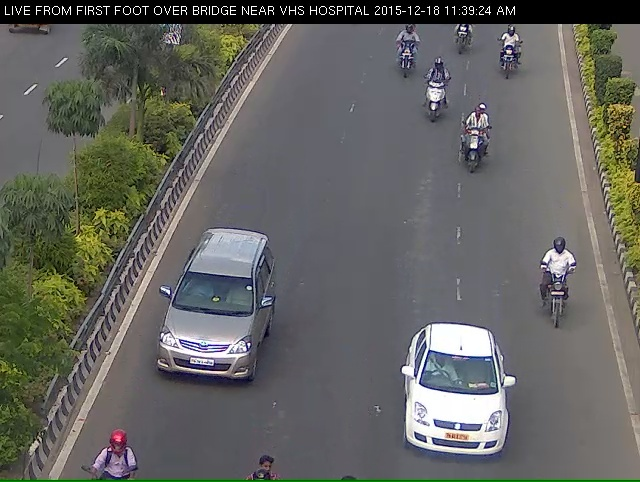Car: (160, 253, 266, 418), (395, 367, 524, 481)
Person: (535, 260, 587, 344), (458, 117, 490, 191), (420, 72, 443, 134), (391, 36, 417, 87), (499, 40, 524, 89), (447, 20, 475, 62)
